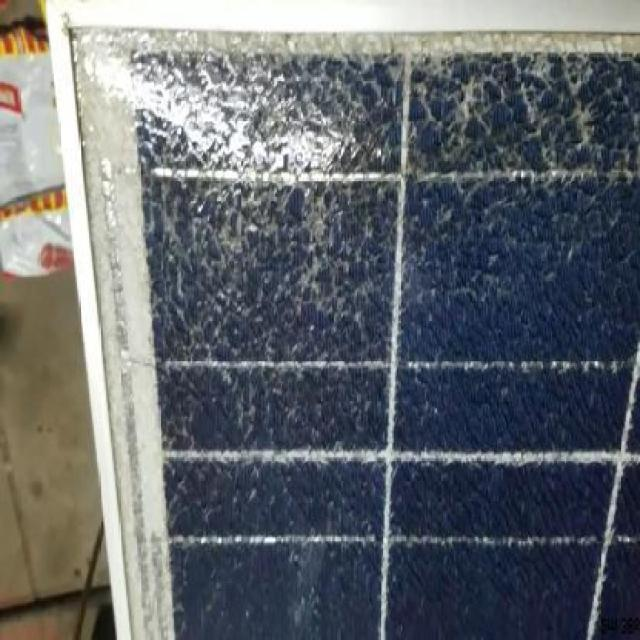cracked: (54, 1, 640, 628)
